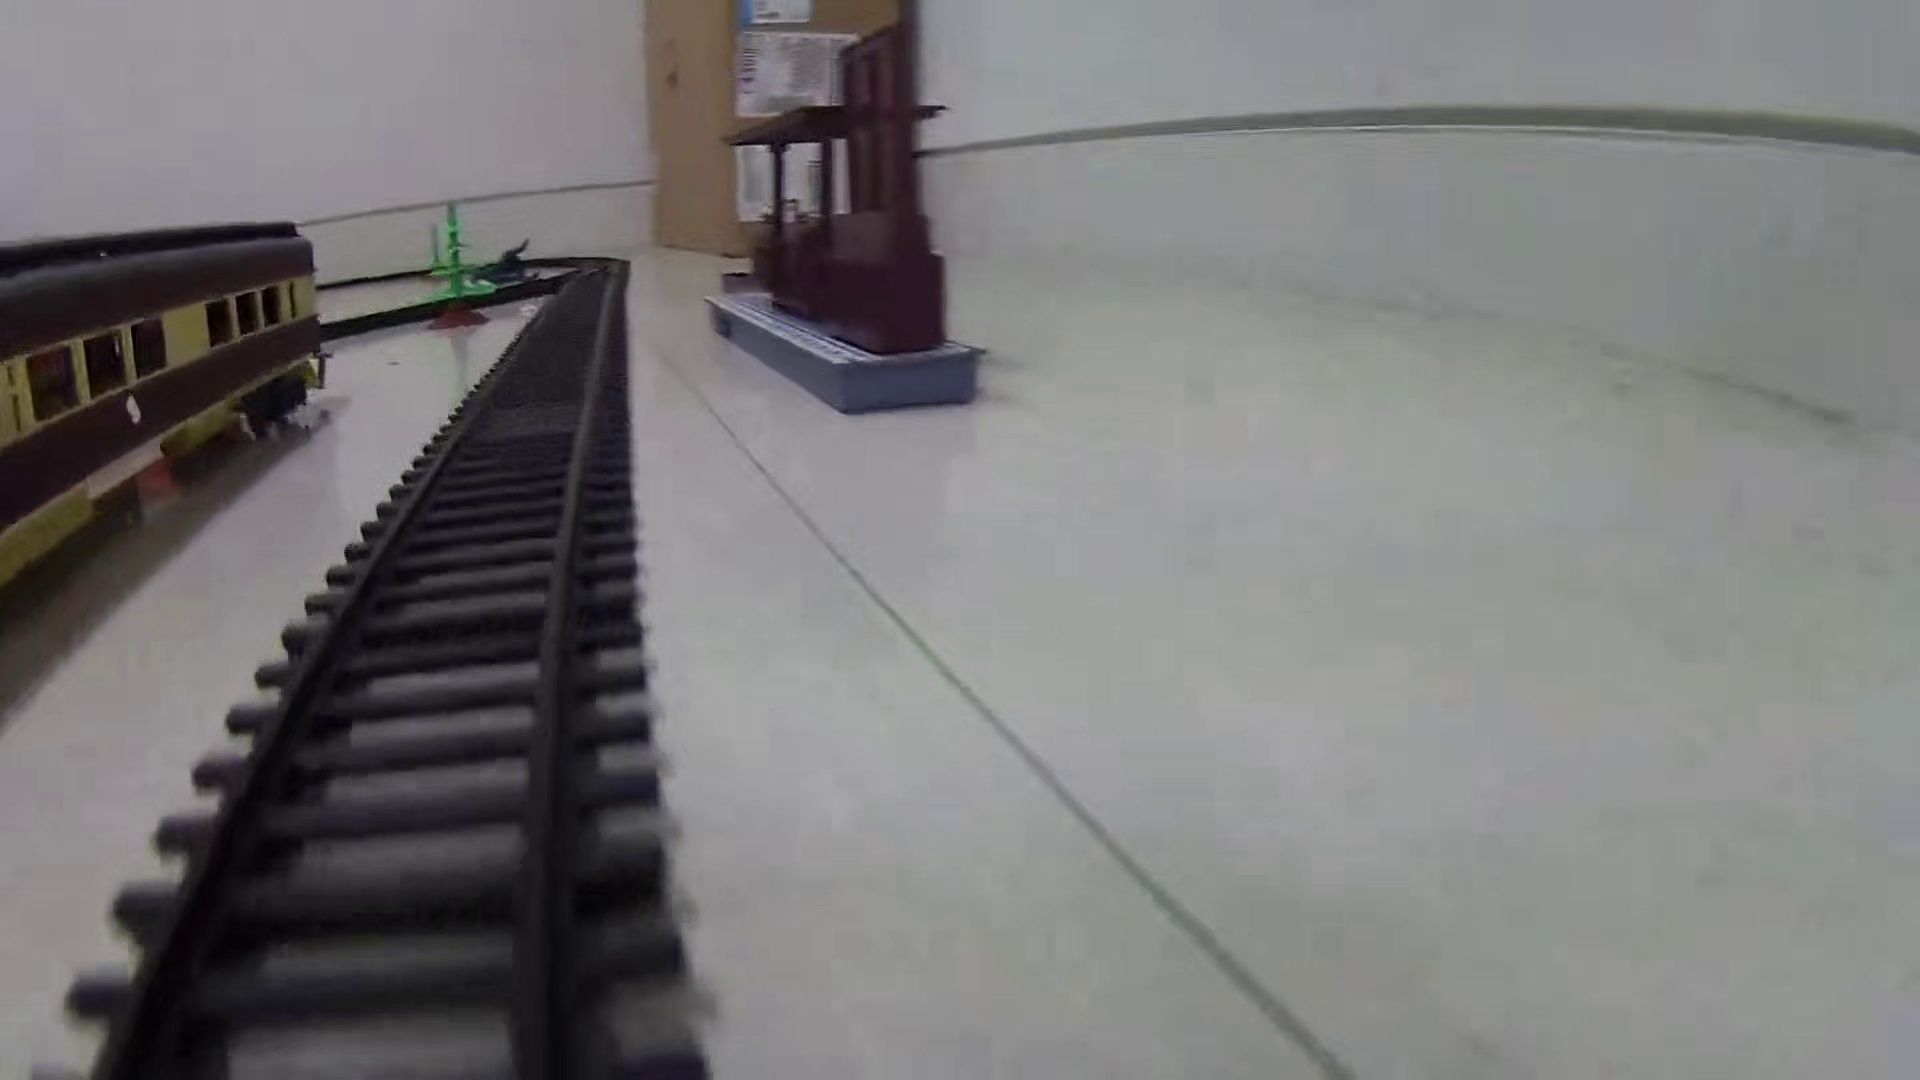people: (469, 240, 546, 288)
tree: (427, 205, 495, 336)
